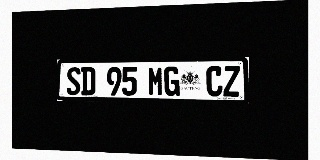5: (122, 67, 137, 96)
9: (107, 67, 121, 95)
C: (206, 66, 222, 96)
D: (81, 67, 95, 95)
G: (164, 66, 180, 96)
M: (148, 66, 163, 96)
S: (66, 67, 80, 95)
Z: (223, 66, 240, 97)
